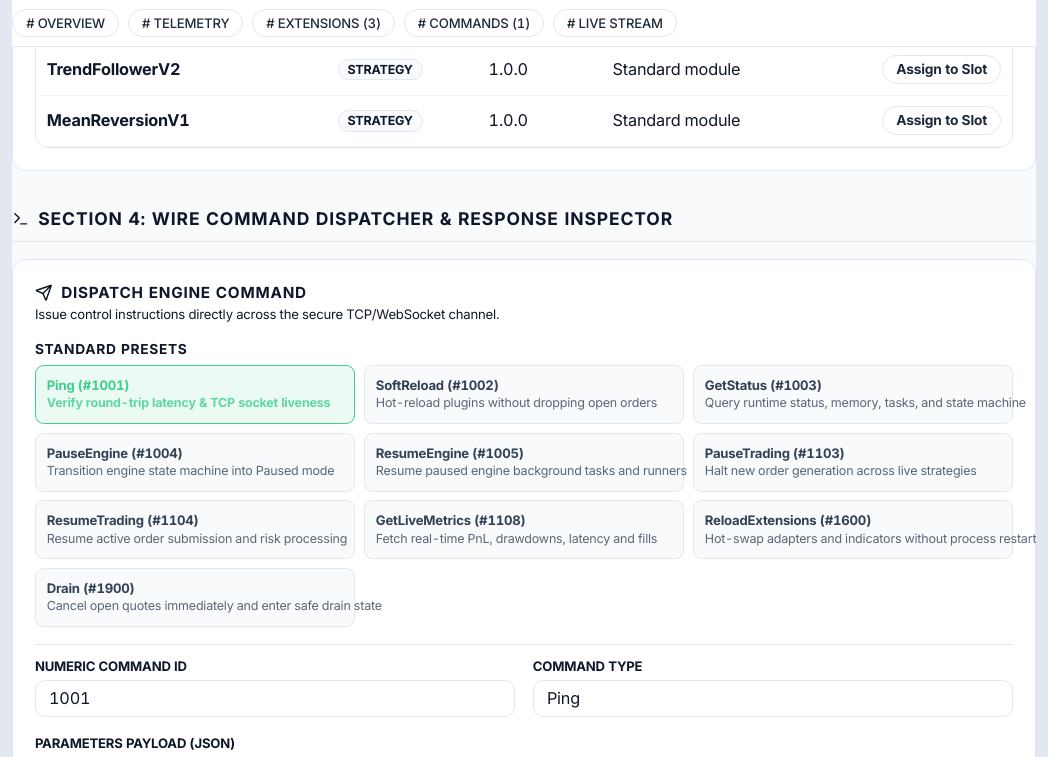
Test: InstanceDetailContent Component › populates command form when a quick preset is clicked
(page scrolled)
Click the text "SoftReload" at (410, 385), box [376,377,444,393]
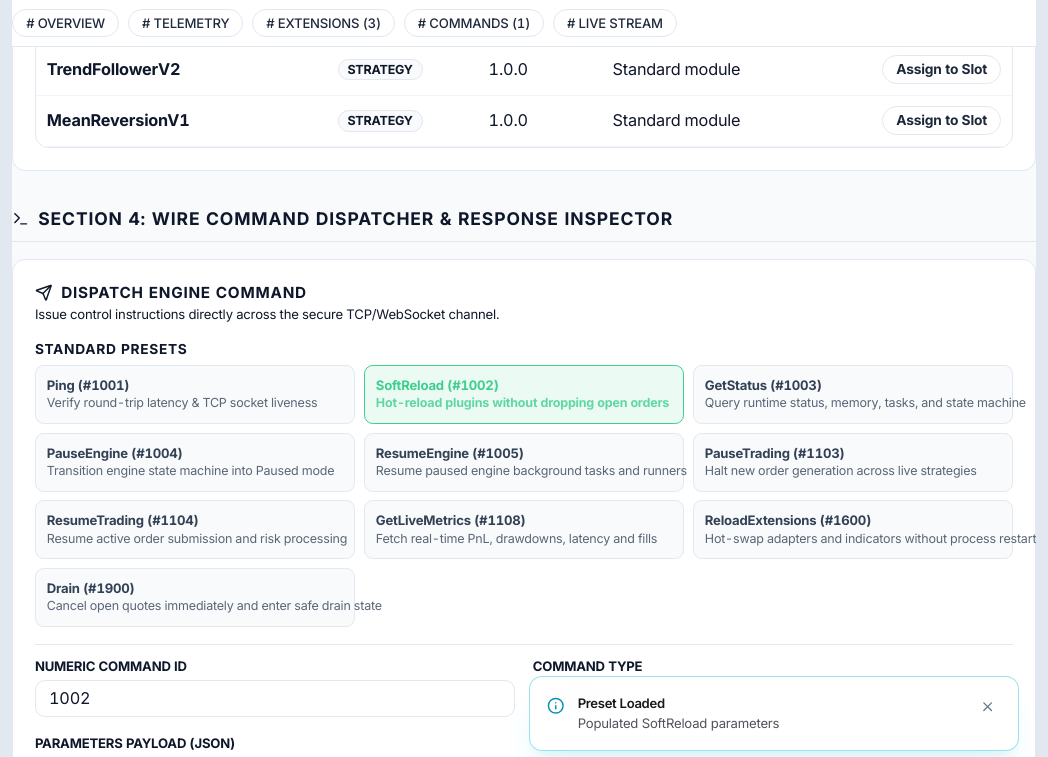
Expected: the field with placeholder "Ping / SoftReload" holds "SoftReload", [533,680,1013,717]
